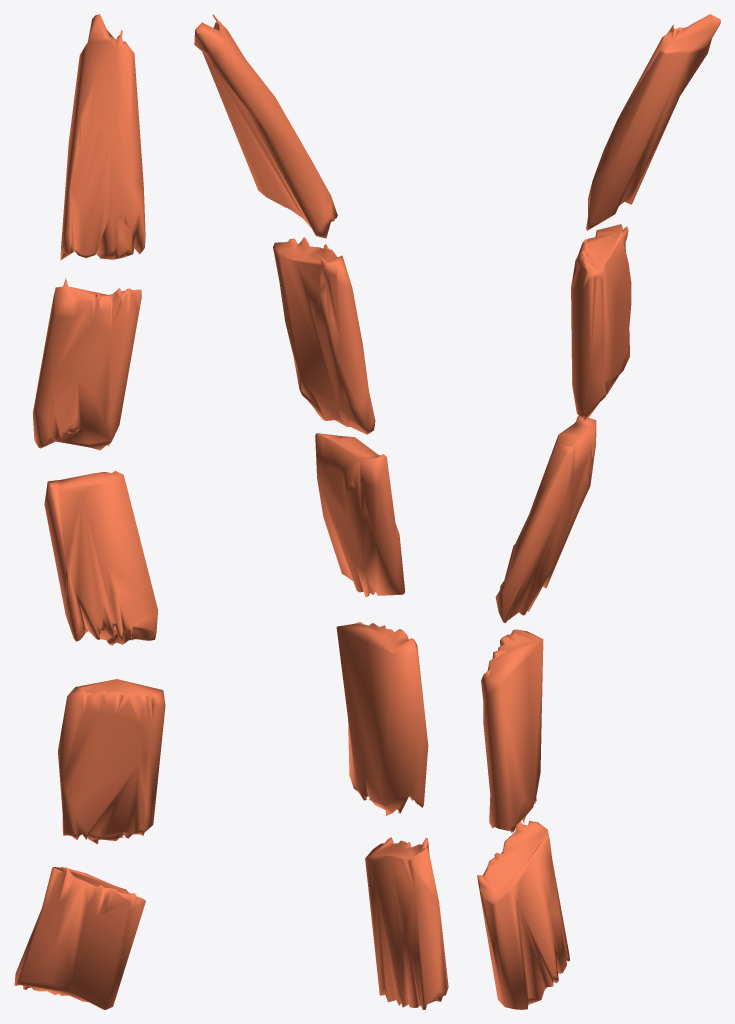
File: Dorsal_parts_of_lateral_intertransversarii_lumborum_muscles.r_G.glb
3 renders of one model, left to right at view 1: azimuth 30°, elevation 25°; view 2: azimuth 150°, elevation 25°; view 3: azimuth 270°, elevation 25°, orthographic. The views are drawn at different scales.
Parts seen in each view (by area): view 1: Dorsal_parts_of_lateral_intertransversarii_lumborum_muscles.; view 2: Dorsal_parts_of_lateral_intertransversarii_lumborum_muscles.; view 3: Dorsal_parts_of_lateral_intertransversarii_lumborum_muscles..
Boxes of the visible parts, x1,y1,x2,y2 form: Dorsal_parts_of_lateral_intertransversarii_lumborum_muscles.: [14, 14, 165, 1009]; Dorsal_parts_of_lateral_intertransversarii_lumborum_muscles.: [194, 14, 448, 1009]; Dorsal_parts_of_lateral_intertransversarii_lumborum_muscles.: [477, 14, 720, 1009].
Size of the model in its own units: 0.0287 by 0.1502 by 0.0319.
